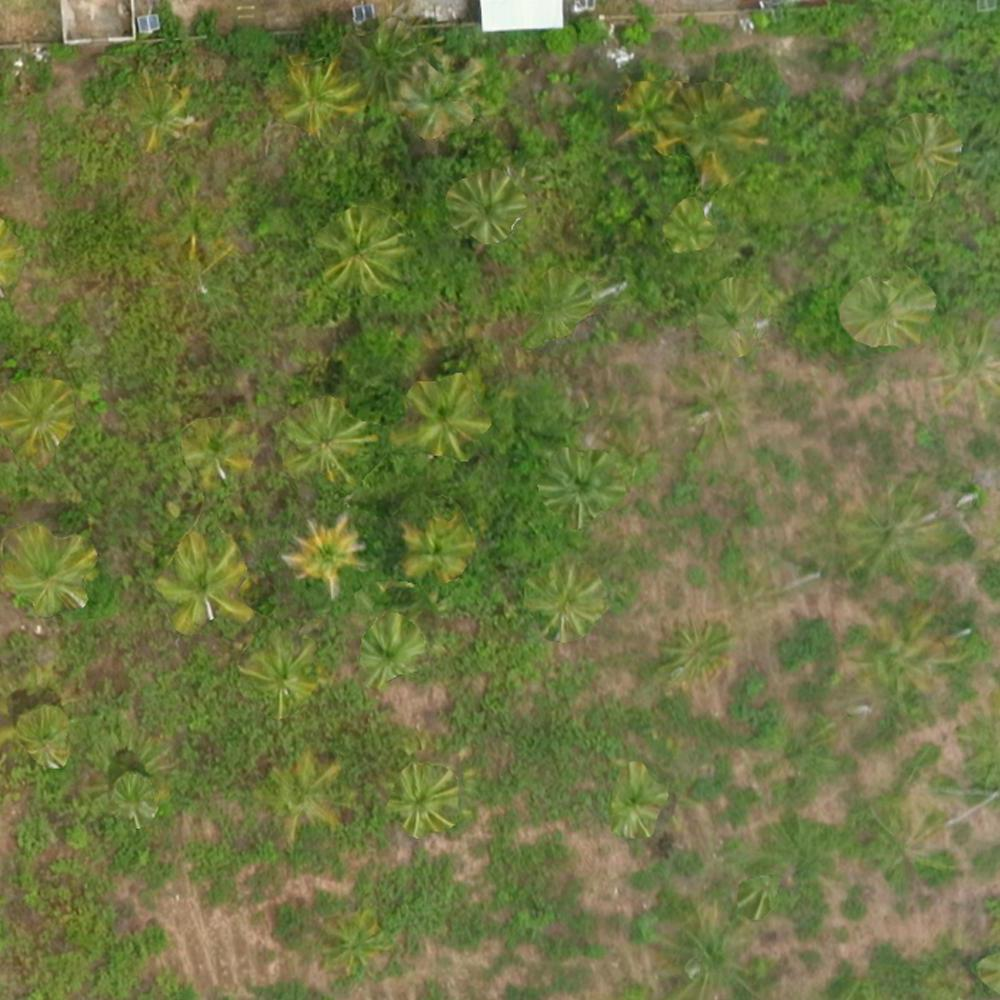Palm: (668, 80, 766, 176), (155, 532, 249, 629), (279, 400, 369, 480), (7, 527, 88, 614), (318, 206, 402, 288), (404, 376, 485, 458), (271, 61, 358, 135), (534, 447, 617, 524), (260, 756, 340, 835), (282, 512, 364, 585), (395, 59, 477, 131), (245, 632, 321, 709), (849, 276, 928, 347), (525, 566, 599, 640), (118, 72, 191, 145), (392, 764, 462, 840), (449, 172, 524, 241), (1, 382, 68, 459), (319, 907, 390, 979), (397, 517, 475, 582), (179, 412, 254, 479), (886, 117, 957, 185), (358, 615, 422, 690)
